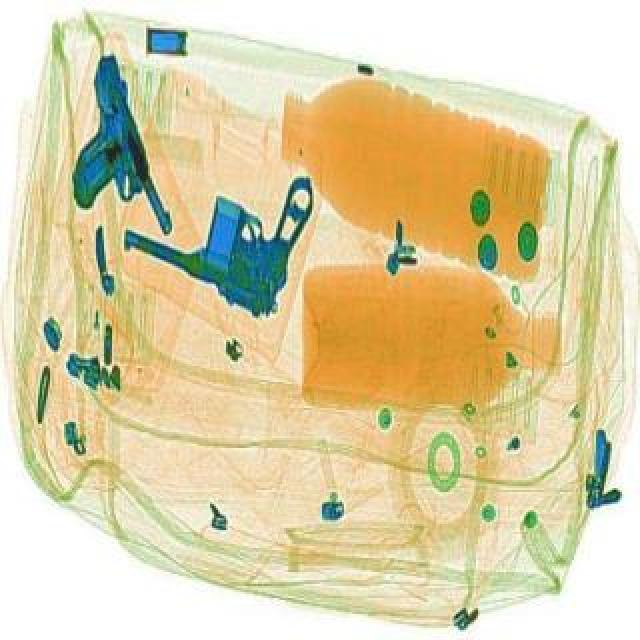gun: (108, 112, 352, 328), (34, 48, 174, 248)
